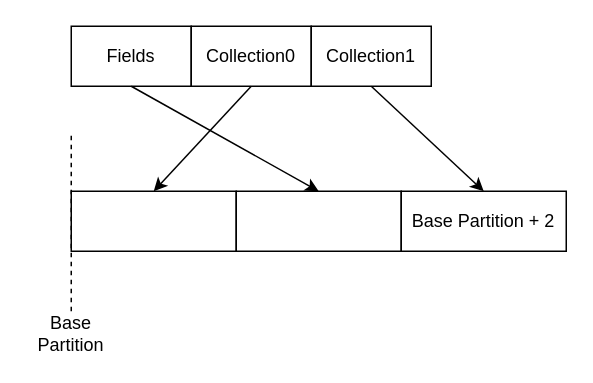
The diagram is 593 pixels wide and 383 high, and some of its shapes have lost their labels. Here are the shapes that lost their labels. From the top down, the centre of each, then its label:
At (153,220): "Base Partition + 0".
At (318,220): "Base Partition + 1".
